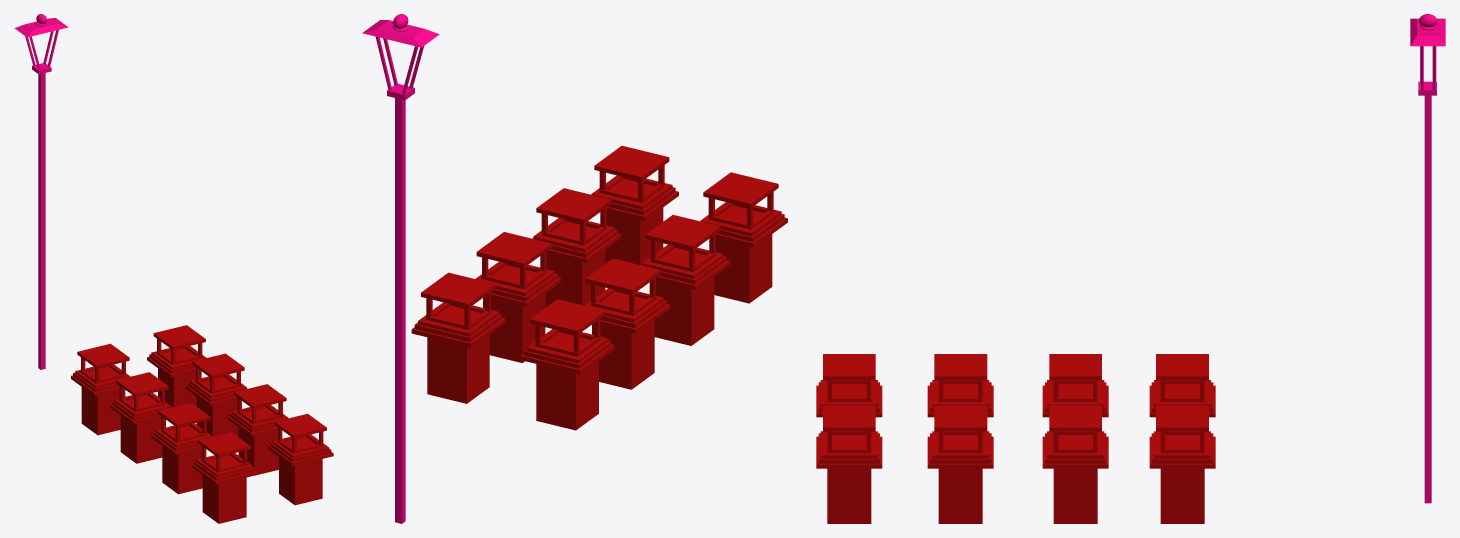
Rendered from SceneLampPosts.obj.
3 renders of one model, left to right at view 1: azimuth 30°, elevation 25°; view 2: azimuth 150°, elevation 25°; view 3: azimuth 270°, elevation 25°, orthographic. The views are drawn at different scales.
Parts seen in each view (by area): view 1: Tall_Lamp_Post:pCube1 Tall_Lamp, Small_Lamp_Post:pCube1 pasted__Small_Lamp_Post1 Small_Lamp_Posts, Small_Lamp_Posts pasted__pCube1 pasted__Small_Lamp_Post8, Small_Lamp_Posts pasted__pCube1 pasted__Small_Lamp_Post3, Small_Lamp_Posts pasted__pCube1 pasted__Small_Lamp_Post2, Small_Lamp_Posts pasted__pCube1 pasted__Small_Lamp_Post4, Small_Lamp_Posts pasted__pCube1 pasted__Small_Lamp_Post7, pasted__Small_Lamp_Post1 Small_Lamp_Posts Small_Lamp_Post:pCube1, Small_Lamp_Posts pasted__pCube1 pasted__Small_Lamp_Post6, Small_Lamp_Posts pasted__pCube1 pasted__Small_Lamp_Post5, pasted__Small_Lamp_Post1 Small_Lamp_Posts Small_Lamp_Post:pCube3, Small_Lamp_Posts pasted__Small_Lamp_Post6 pasted__pCube3 (+14 smaller); view 2: Tall_Lamp_Post:pCube1 Tall_Lamp, Small_Lamp_Posts pasted__pCube1 pasted__Small_Lamp_Post4, Small_Lamp_Posts pasted__pCube1 pasted__Small_Lamp_Post5, Small_Lamp_Posts pasted__pCube1 pasted__Small_Lamp_Post2, Small_Lamp_Post:pCube1 pasted__Small_Lamp_Post1 Small_Lamp_Posts, Small_Lamp_Posts pasted__pCube1 pasted__Small_Lamp_Post3, Small_Lamp_Posts pasted__pCube1 pasted__Small_Lamp_Post6, Small_Lamp_Posts pasted__pCube1 pasted__Small_Lamp_Post8, pasted__Small_Lamp_Post1 Small_Lamp_Posts Small_Lamp_Post:pCube1, Small_Lamp_Posts pasted__pCube1 pasted__Small_Lamp_Post7, Small_Lamp_Posts pasted__Small_Lamp_Post2 pasted__pCube3, Small_Lamp_Posts pasted__Small_Lamp_Post3 pasted__pCube3 (+18 smaller); view 3: Tall_Lamp_Post:pCube1 Tall_Lamp, Small_Lamp_Posts pasted__pCube1 pasted__Small_Lamp_Post5, Small_Lamp_Posts pasted__pCube1 pasted__Small_Lamp_Post6, Small_Lamp_Posts pasted__pCube1 pasted__Small_Lamp_Post7, Small_Lamp_Posts pasted__pCube1 pasted__Small_Lamp_Post8, pasted__Small_Lamp_Post1 Small_Lamp_Posts Small_Lamp_Post:pCube1, Small_Lamp_Posts pasted__Small_Lamp_Post7 pasted__pCube3, Small_Lamp_Posts pasted__Small_Lamp_Post2 pasted__pCube3, pasted__Small_Lamp_Post1 Small_Lamp_Posts Small_Lamp_Post:pCube3, Small_Lamp_Posts pasted__Small_Lamp_Post3 pasted__pCube3, Small_Lamp_Posts pasted__Small_Lamp_Post4 pasted__pCube3, Small_Lamp_Posts pasted__Small_Lamp_Post5 pasted__pCube3 (+10 smaller).
Part boxes in pixels (x1,y1,x2,y2): Tall_Lamp_Post:pCube1 Tall_Lamp: [38, 73, 45, 369]; Small_Lamp_Post:pCube1 pasted__Small_Lamp_Post1 Small_Lamp_Posts: [202, 475, 246, 523]; Small_Lamp_Posts pasted__pCube1 pasted__Small_Lamp_Post8: [279, 457, 322, 505]; Small_Lamp_Posts pasted__pCube1 pasted__Small_Lamp_Post3: [120, 415, 162, 463]; Small_Lamp_Posts pasted__pCube1 pasted__Small_Lamp_Post2: [162, 446, 202, 494]; Small_Lamp_Posts pasted__pCube1 pasted__Small_Lamp_Post4: [81, 387, 125, 435]; Small_Lamp_Posts pasted__pCube1 pasted__Small_Lamp_Post7: [238, 427, 278, 475]; pasted__Small_Lamp_Post1 Small_Lamp_Posts Small_Lamp_Post:pCube1: [192, 446, 257, 484]; Small_Lamp_Posts pasted__pCube1 pasted__Small_Lamp_Post6: [196, 397, 238, 436]; Small_Lamp_Posts pasted__pCube1 pasted__Small_Lamp_Post5: [158, 368, 201, 407]; pasted__Small_Lamp_Post1 Small_Lamp_Posts Small_Lamp_Post:pCube3: [198, 432, 250, 457]; Small_Lamp_Posts pasted__Small_Lamp_Post6 pasted__pCube3: [192, 353, 244, 378]; Tall_Lamp_Post:pCube1 Tall_Lamp: [395, 98, 405, 523]; Small_Lamp_Posts pasted__pCube1 pasted__Small_Lamp_Post4: [536, 361, 598, 430]; Small_Lamp_Posts pasted__pCube1 pasted__Small_Lamp_Post5: [427, 334, 489, 403]; Small_Lamp_Posts pasted__pCube1 pasted__Small_Lamp_Post2: [654, 277, 714, 345]; Small_Lamp_Post:pCube1 pasted__Small_Lamp_Post1 Small_Lamp_Posts: [714, 234, 772, 303]; Small_Lamp_Posts pasted__pCube1 pasted__Small_Lamp_Post3: [592, 320, 654, 389]; Small_Lamp_Posts pasted__pCube1 pasted__Small_Lamp_Post6: [483, 294, 545, 362]; Small_Lamp_Posts pasted__pCube1 pasted__Small_Lamp_Post8: [605, 207, 663, 265]; pasted__Small_Lamp_Post1 Small_Lamp_Posts Small_Lamp_Post:pCube1: [700, 198, 787, 247]; Small_Lamp_Posts pasted__pCube1 pasted__Small_Lamp_Post7: [545, 250, 605, 307]; Small_Lamp_Posts pasted__Small_Lamp_Post2 pasted__pCube3: [645, 215, 720, 250]; Small_Lamp_Posts pasted__Small_Lamp_Post3 pasted__pCube3: [585, 258, 660, 294]; Tall_Lamp_Post:pCube1 Tall_Lamp: [1424, 95, 1431, 503]; Small_Lamp_Posts pasted__pCube1 pasted__Small_Lamp_Post5: [1160, 468, 1204, 523]; Small_Lamp_Posts pasted__pCube1 pasted__Small_Lamp_Post6: [1053, 468, 1097, 523]; Small_Lamp_Posts pasted__pCube1 pasted__Small_Lamp_Post7: [938, 468, 982, 523]; Small_Lamp_Posts pasted__pCube1 pasted__Small_Lamp_Post8: [827, 468, 871, 523]; pasted__Small_Lamp_Post1 Small_Lamp_Posts Small_Lamp_Post:pCube1: [816, 380, 882, 417]; Small_Lamp_Posts pasted__Small_Lamp_Post7 pasted__pCube3: [934, 405, 987, 431]; Small_Lamp_Posts pasted__Small_Lamp_Post2 pasted__pCube3: [934, 354, 987, 380]; pasted__Small_Lamp_Post1 Small_Lamp_Posts Small_Lamp_Post:pCube3: [823, 354, 875, 380]; Small_Lamp_Posts pasted__Small_Lamp_Post3 pasted__pCube3: [1049, 354, 1101, 380]; Small_Lamp_Posts pasted__Small_Lamp_Post4 pasted__pCube3: [1156, 354, 1208, 380]; Small_Lamp_Posts pasted__Small_Lamp_Post5 pasted__pCube3: [1156, 405, 1208, 431].
Bounding box in the file's own units: 2.13 × 6.11 × 7.15.
